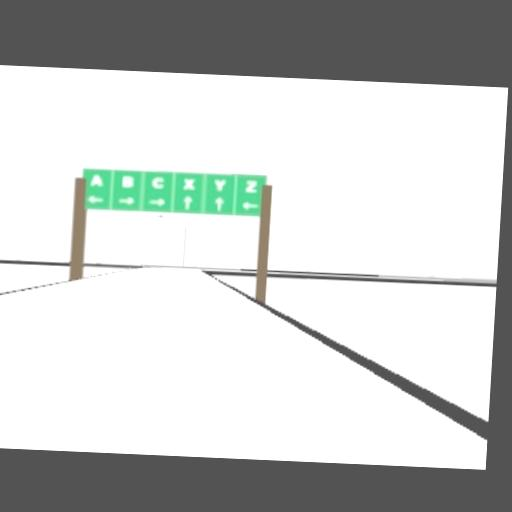A: (89, 174, 102, 187)
B: (120, 174, 133, 188)
C: (151, 176, 165, 189)
Left: (86, 194, 103, 203), (241, 201, 258, 210)
Right: (118, 196, 135, 205), (148, 197, 165, 206)
Straight: (212, 196, 223, 212), (181, 195, 192, 211)
X: (182, 177, 195, 189)
Y: (212, 178, 225, 190)
Z: (244, 179, 258, 192)
